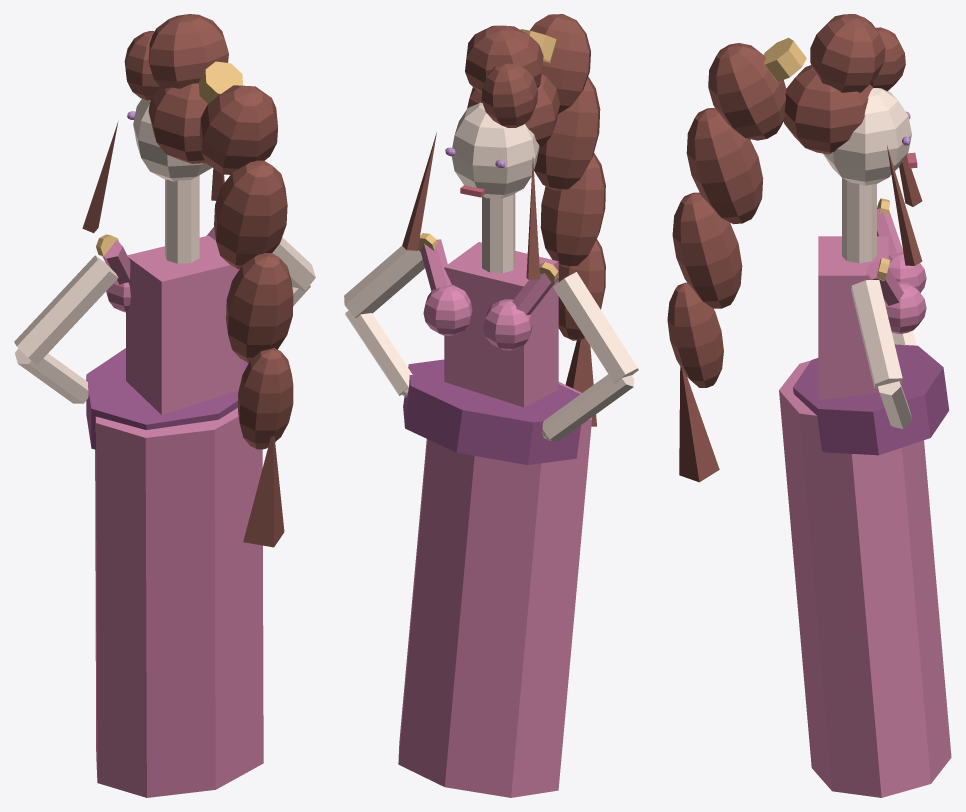
The model's file is megara.glb.
3 renders of one model, left to right at view 1: azimuth 30°, elevation 25°; view 2: azimuth 150°, elevation 25°; view 3: azimuth 270°, elevation 25°, orthographic. The views are drawn at different scales.
Visible parts, largest first — view 1: MegaraBust; view 2: MegaraBust; view 3: MegaraBust.
Part boxes in pixels (x1,y1,x2,y2): MegaraBust: (14, 14, 315, 797); MegaraBust: (344, 14, 638, 797); MegaraBust: (667, 14, 951, 797).
Size of the model in its own units: 0.5804 by 1.41 by 0.4859.
